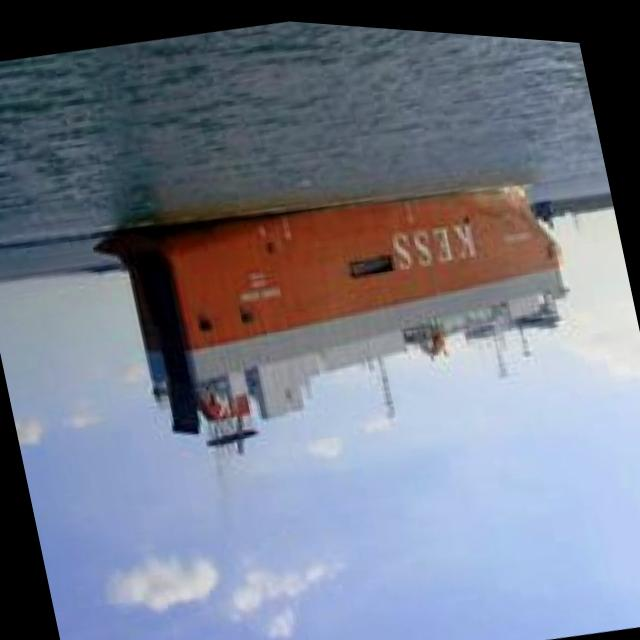ship2: (91, 174, 569, 450)
